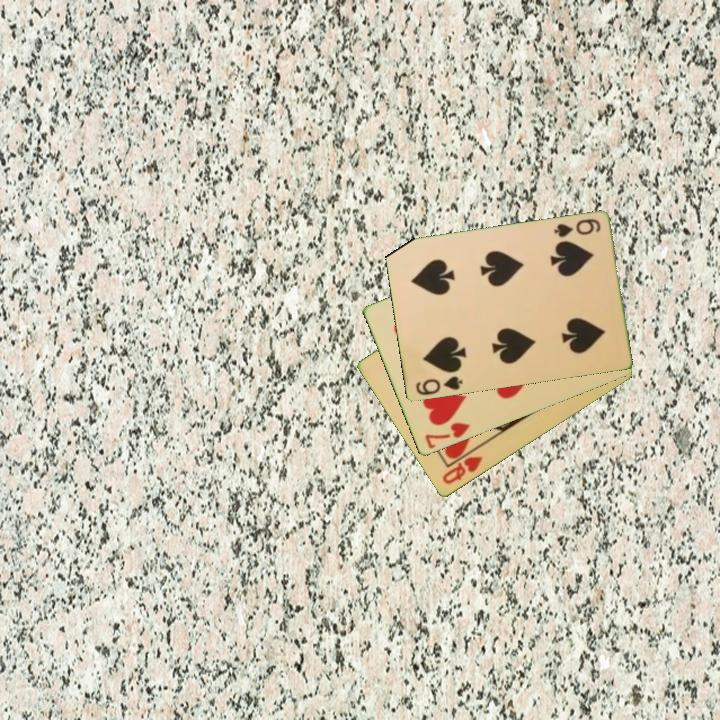6s: (550, 215, 603, 241), (412, 373, 465, 398)
7h: (421, 419, 472, 452)
Qh: (439, 453, 485, 488)
